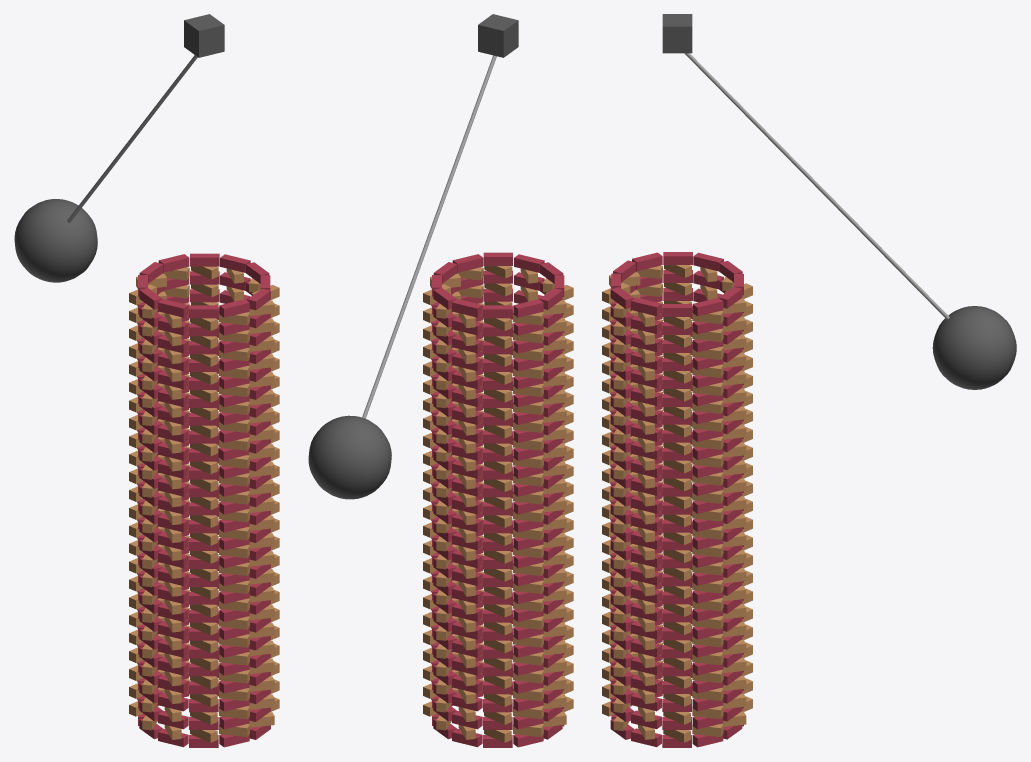
The model's file is silo.fbx.
3 renders of one model, left to right at view 1: azimuth 30°, elevation 25°; view 2: azimuth 150°, elevation 25°; view 3: azimuth 270°, elevation 25°, orthographic.
Parts seen in each view (by area): view 1: pSphere1, pCube591, pCylinder1; view 2: pSphere1, pCylinder1, pCube591; view 3: pSphere1, pCylinder1, pCube591.
Boxes of the visible parts, <box> form: pSphere1: <box>14,199,97,282</box>; pCube591: <box>184,14,224,57</box>; pCylinder1: <box>67,55,197,222</box>; pSphere1: <box>308,415,391,499</box>; pCylinder1: <box>362,55,496,418</box>; pCube591: <box>478,14,518,57</box>; pSphere1: <box>932,306,1016,389</box>; pCylinder1: <box>684,53,949,319</box>; pCube591: <box>662,14,692,53</box>.
Bounding box in the file's own units: 76.18 × 390 × 209.
